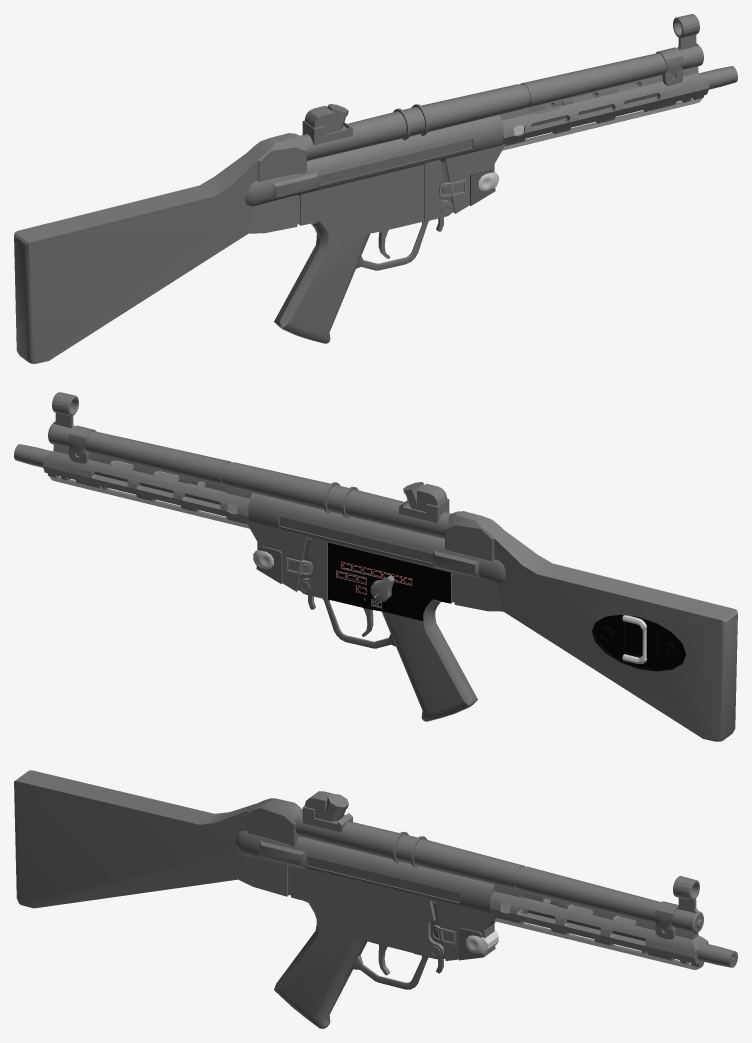
File: nova mp5_gun.fbx
3 renders of one model, top to bottom at view 1: azimuth 30°, elevation 25°; view 2: azimuth 150°, elevation 25°; view 3: azimuth 330°, elevation 25°, orthographic.
Visible parts, largest first — view 1: Cilindro maior; view 2: Cilindro maior; view 3: Cilindro maior.
Part boxes in pixels (x1,y1,x2,y2): Cilindro maior: (14, 14, 737, 363); Cilindro maior: (14, 392, 737, 741); Cilindro maior: (14, 770, 737, 1028).
Size of the model in its own units: 485 by 154 by 19.72.
9 materials, 1 textured.
